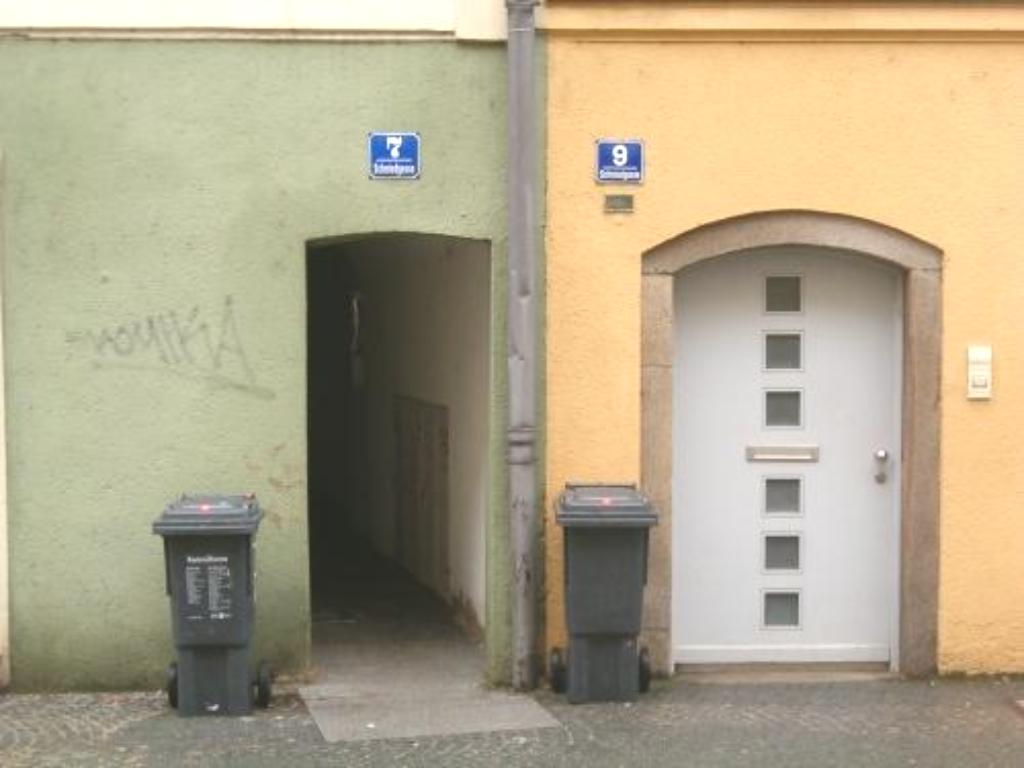dustbin: (539, 468, 680, 717), (144, 493, 293, 726)
